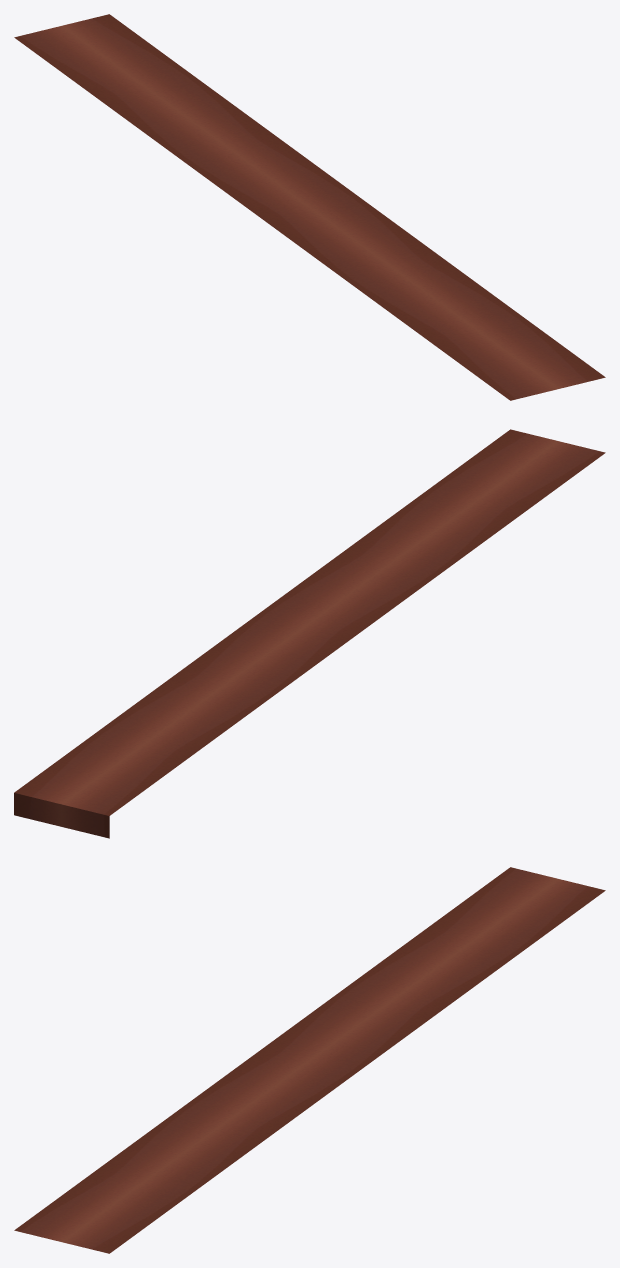
File: 1.100_SanFrancisco_ground_shadow_mid.glb
3 views of the same model, one above another, from view 1: azimuth 30°, elevation 25°; view 2: azimuth 150°, elevation 25°; view 3: azimuth 330°, elevation 25° (orthographic).
Visible parts, largest first — view 1: 1.100_SanFrancisco_ground_shadow_mid; view 2: 1.100_SanFrancisco_ground_shadow_mid; view 3: 1.100_SanFrancisco_ground_shadow_mid.
Boxes of the visible parts, <box> form: 1.100_SanFrancisco_ground_shadow_mid: <box>14,14,605,400</box>; 1.100_SanFrancisco_ground_shadow_mid: <box>14,429,605,838</box>; 1.100_SanFrancisco_ground_shadow_mid: <box>14,867,605,1253</box>.
Size of the model in its own units: 20 by 4.5 by 180.
1 material, 1 textured.
